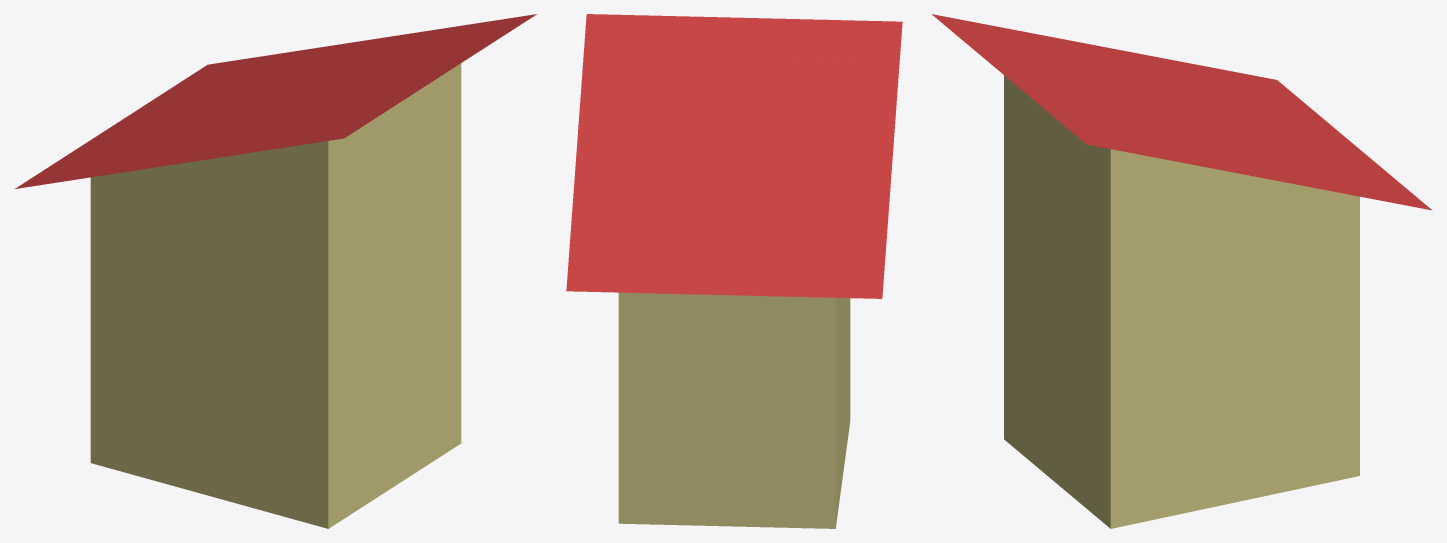
3 views of the same model, side by side, from view 1: azimuth 30°, elevation 25°; view 2: azimuth 150°, elevation 25°; view 3: azimuth 270°, elevation 25° (orthographic). The views are drawn at different scales.
Size of the model in its own units: 13.38 by 13.89 by 12.68.
